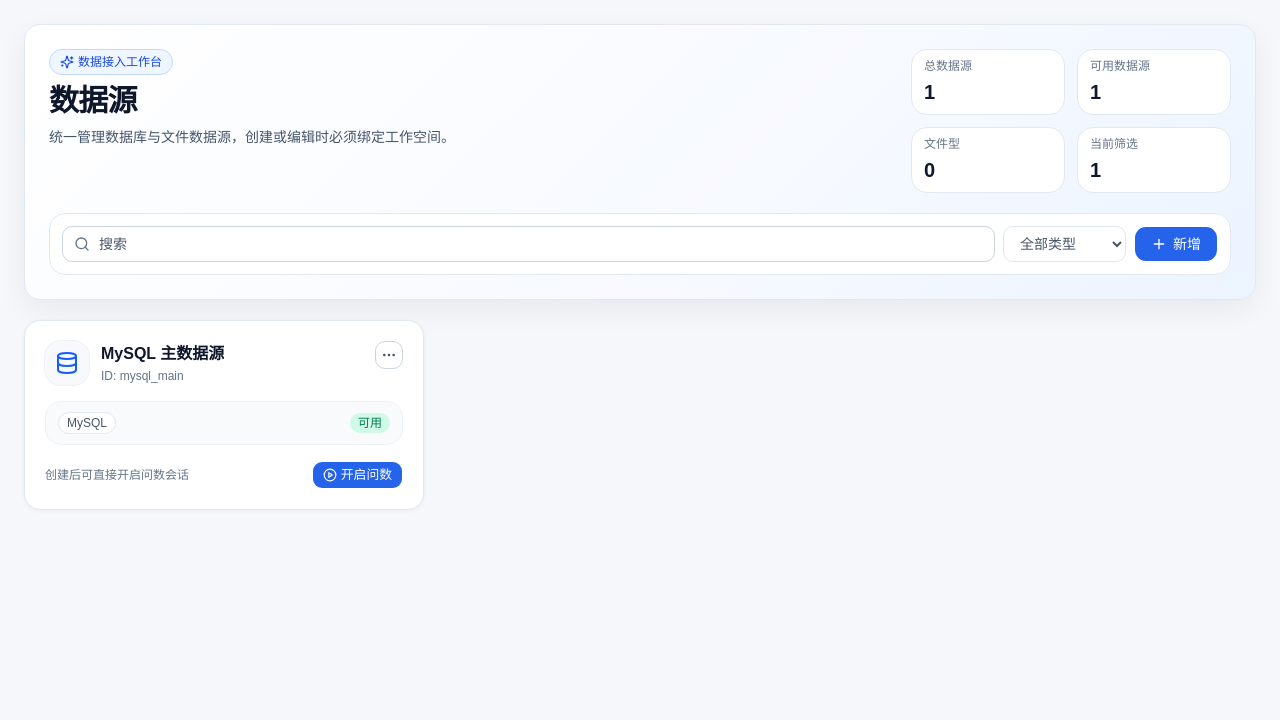
Test: DataSourcesPage modeling setup wizard › opens setup wizard from existing datasource card menu
This screenshot has width=1280, height=720.
expect the text "MySQL 主数据源" is shown: met, box [101, 342, 224, 366]
Click the button named "更多操作".
click(389, 355)  # box [375, 341, 403, 369]
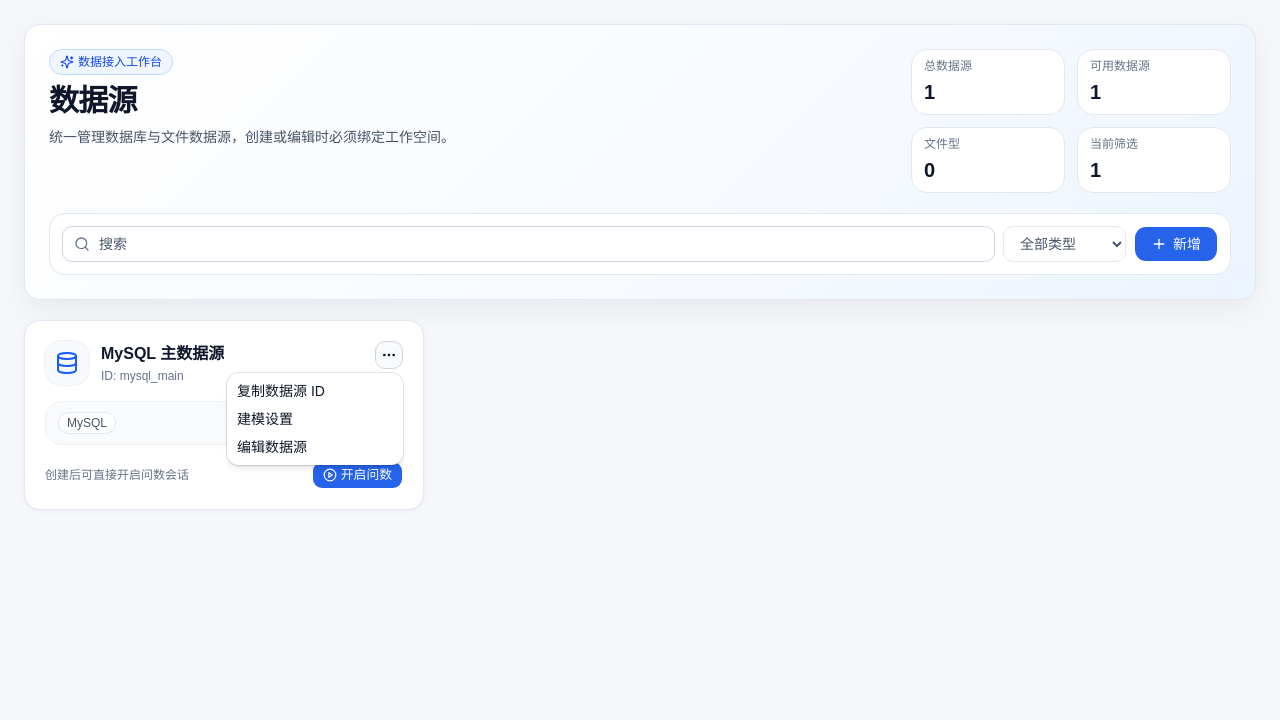
Click the menu item "建模设置".
click(265, 419)  # box [237, 411, 293, 427]
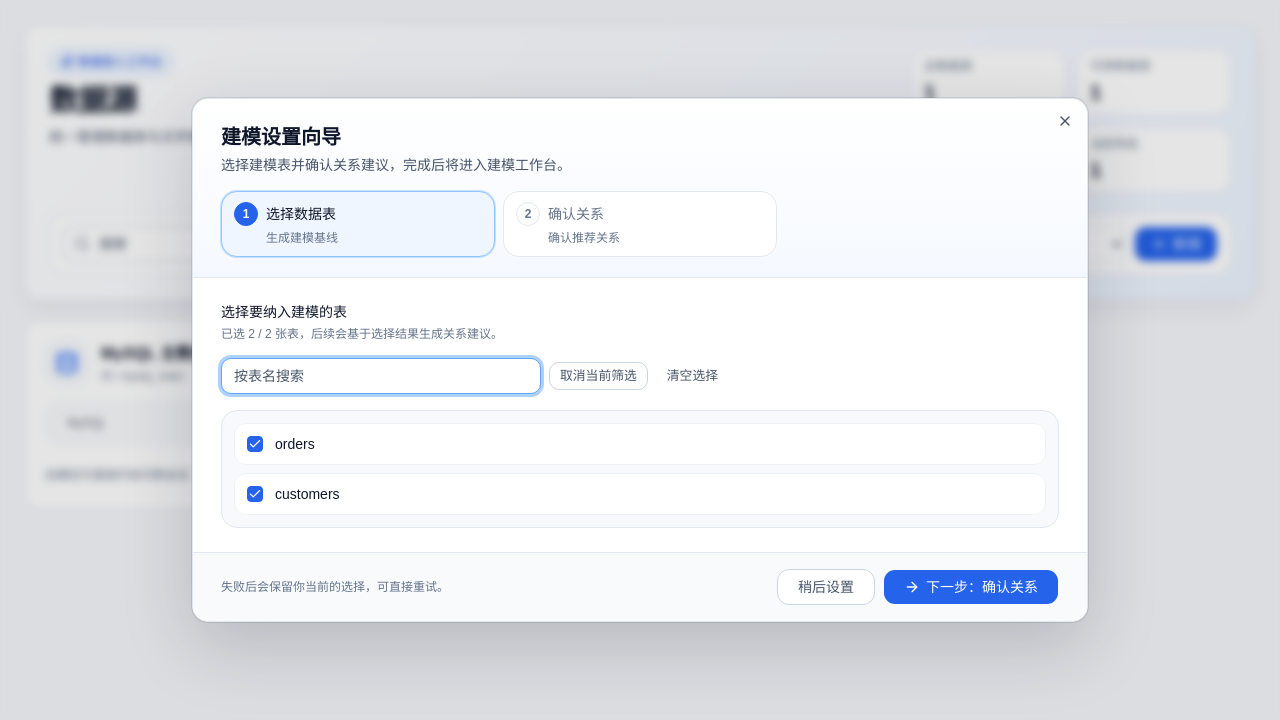
expect the heading "建模设置向导" is shown: met, box [221, 126, 341, 148]
